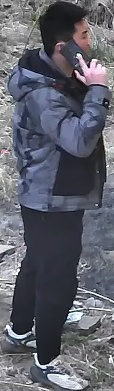phone: (41, 7, 108, 159)
